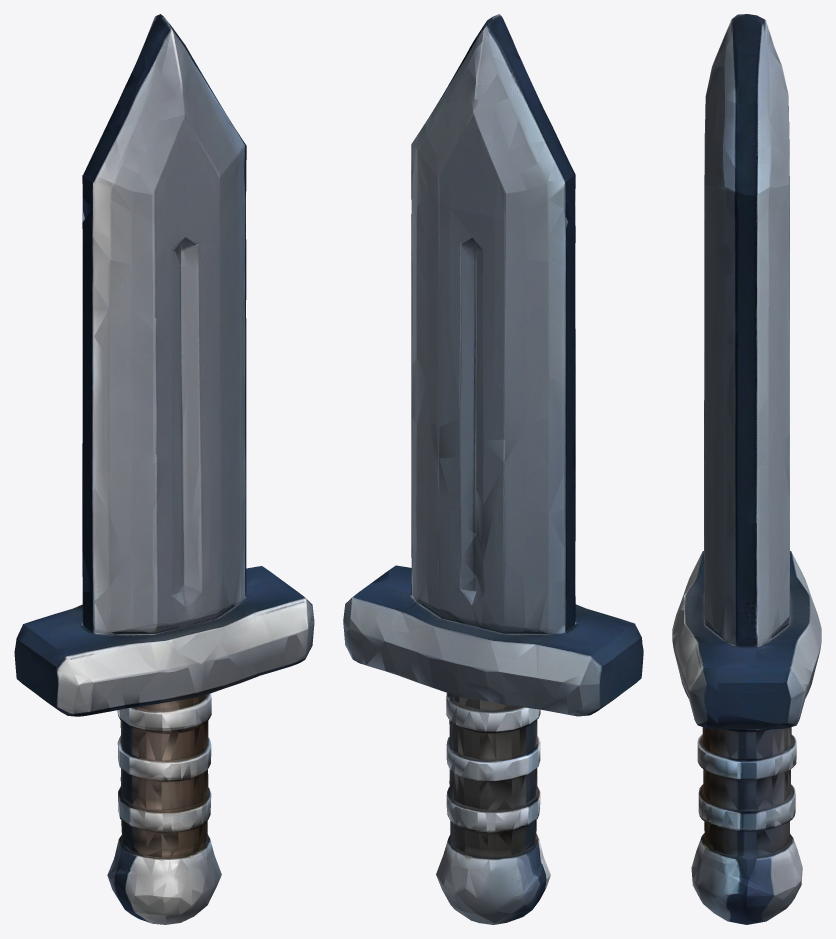
File: w_iron.glb
The picture shows the model from 3 angles, left to right: view 1: azimuth 30°, elevation 25°; view 2: azimuth 150°, elevation 25°; view 3: azimuth 270°, elevation 25°; orthographic projection.
Visible parts, largest first — view 1: Weapon; view 2: Weapon; view 3: Weapon.
Part boxes in pixels (bbox=[...]): Weapon: bbox=[14, 14, 314, 924]; Weapon: bbox=[343, 14, 643, 924]; Weapon: bbox=[672, 14, 821, 924].
Size of the model in its own units: 0.2926 by 0.98 by 0.1467.
1 material, 1 textured.
